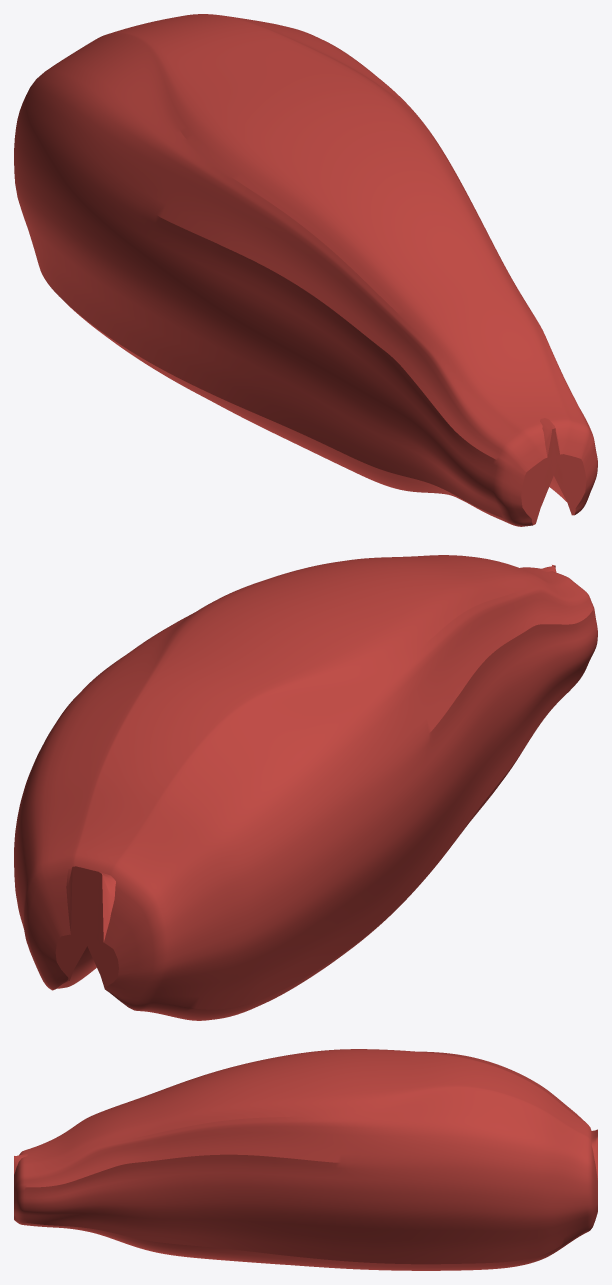
Rendered from cruiser_3.glb.
The picture shows the model from 3 angles, top to bottom: view 1: azimuth 30°, elevation 25°; view 2: azimuth 150°, elevation 25°; view 3: azimuth 270°, elevation 25°; orthographic projection. The views are drawn at different scales.
Visible parts, largest first — view 1: lod0; view 2: lod0; view 3: lod0.
Part boxes in pixels (x1,y1,x2,y2): lod0: [14, 14, 597, 526]; lod0: [14, 555, 597, 1020]; lod0: [14, 1049, 597, 1270].
Size of what is drawn, in the model's own units: 0.3973 by 0.3536 by 1.06.
